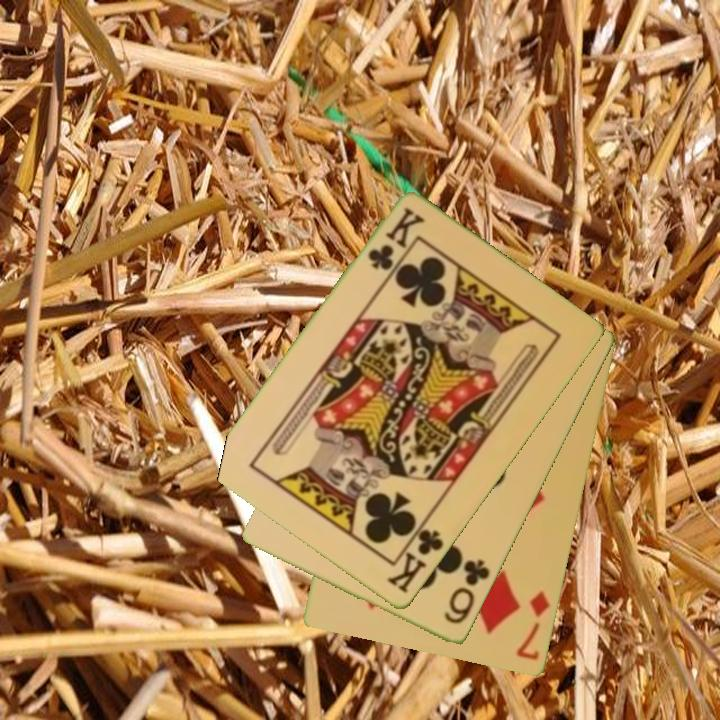6c: (440, 556, 493, 628)
7d: (513, 587, 554, 664)
Kc: (383, 517, 447, 597), (364, 204, 428, 274)
